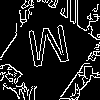M: (25, 25, 74, 77)
